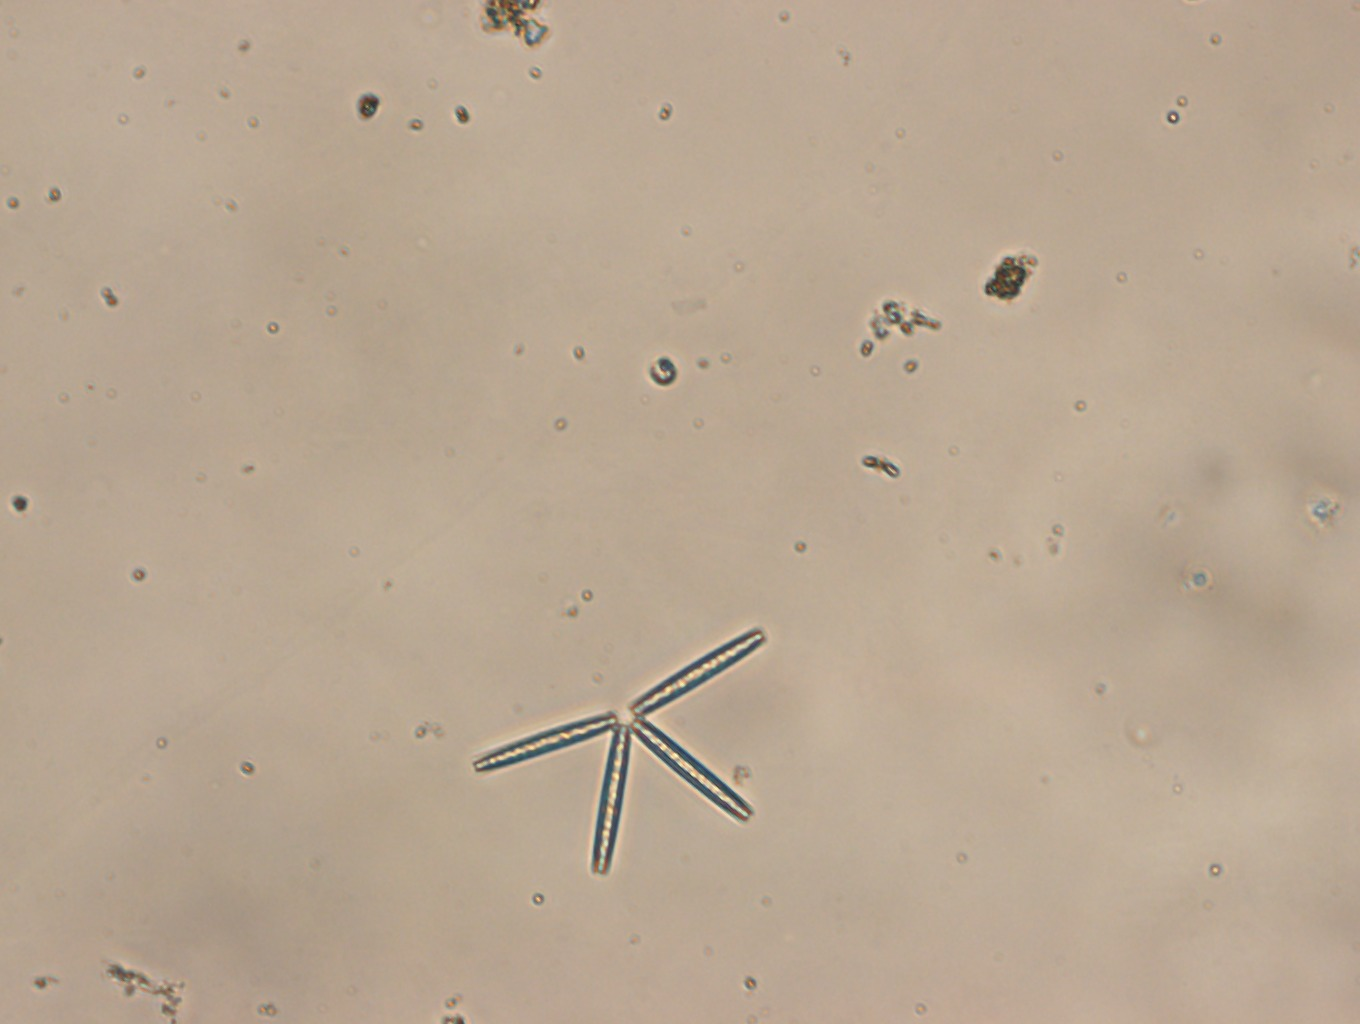thalassionema nitzschioides: (473, 627, 769, 876)
